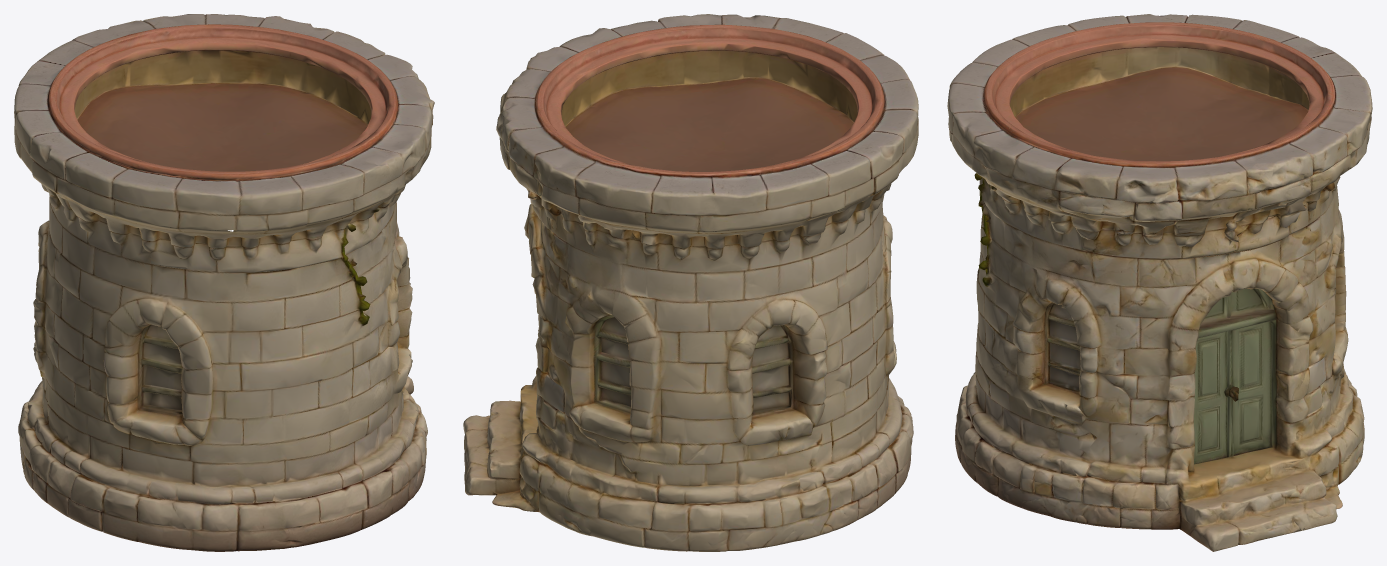
Rendered from observatory.glb.
3 renders of one model, left to right at view 1: azimuth 30°, elevation 25°; view 2: azimuth 150°, elevation 25°; view 3: azimuth 270°, elevation 25°, orthographic. The views are drawn at different scales.
Parts seen in each view (by area): view 1: tripo_node_c288bcd6-c753-4779-ab8f-d619e254fbb8; view 2: tripo_node_c288bcd6-c753-4779-ab8f-d619e254fbb8; view 3: tripo_node_c288bcd6-c753-4779-ab8f-d619e254fbb8.
Part boxes in pixels (x1,y1,x2,y2): tripo_node_c288bcd6-c753-4779-ab8f-d619e254fbb8: (14,14,434,551); tripo_node_c288bcd6-c753-4779-ab8f-d619e254fbb8: (463,14,918,551); tripo_node_c288bcd6-c753-4779-ab8f-d619e254fbb8: (947,14,1372,551).
Bounding box in the file's own units: 0.982 × 0.8654 × 0.9323.
1 material, 1 textured.
